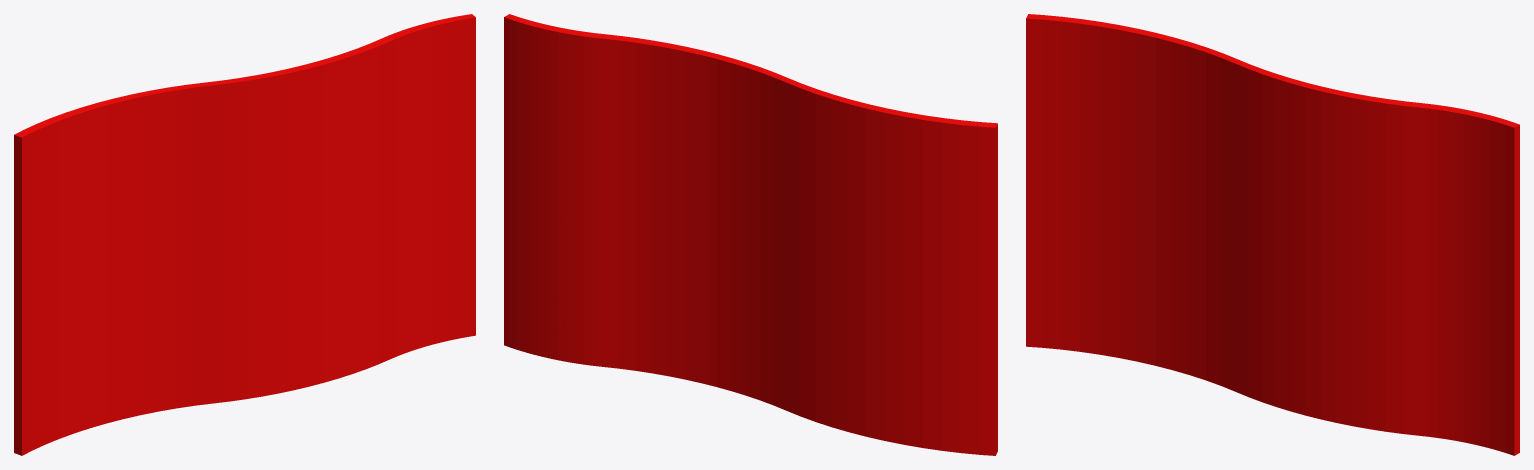
The model's file is Proto_Flag_Static_01.fbx.
3 renders of one model, left to right at view 1: azimuth 30°, elevation 25°; view 2: azimuth 150°, elevation 25°; view 3: azimuth 330°, elevation 25°, orthographic. The views are drawn at different scales.
Parts seen in each view (by area): view 1: Proto_Flag_Static_01; view 2: Proto_Flag_Static_01; view 3: Proto_Flag_Static_01.
Part boxes in pixels (bbox=[...]): Proto_Flag_Static_01: bbox=[14, 14, 475, 455]; Proto_Flag_Static_01: bbox=[504, 14, 997, 455]; Proto_Flag_Static_01: bbox=[1026, 14, 1519, 455].
Bounding box in the file's own units: 0.9732 × 0.633 × 0.0653.
